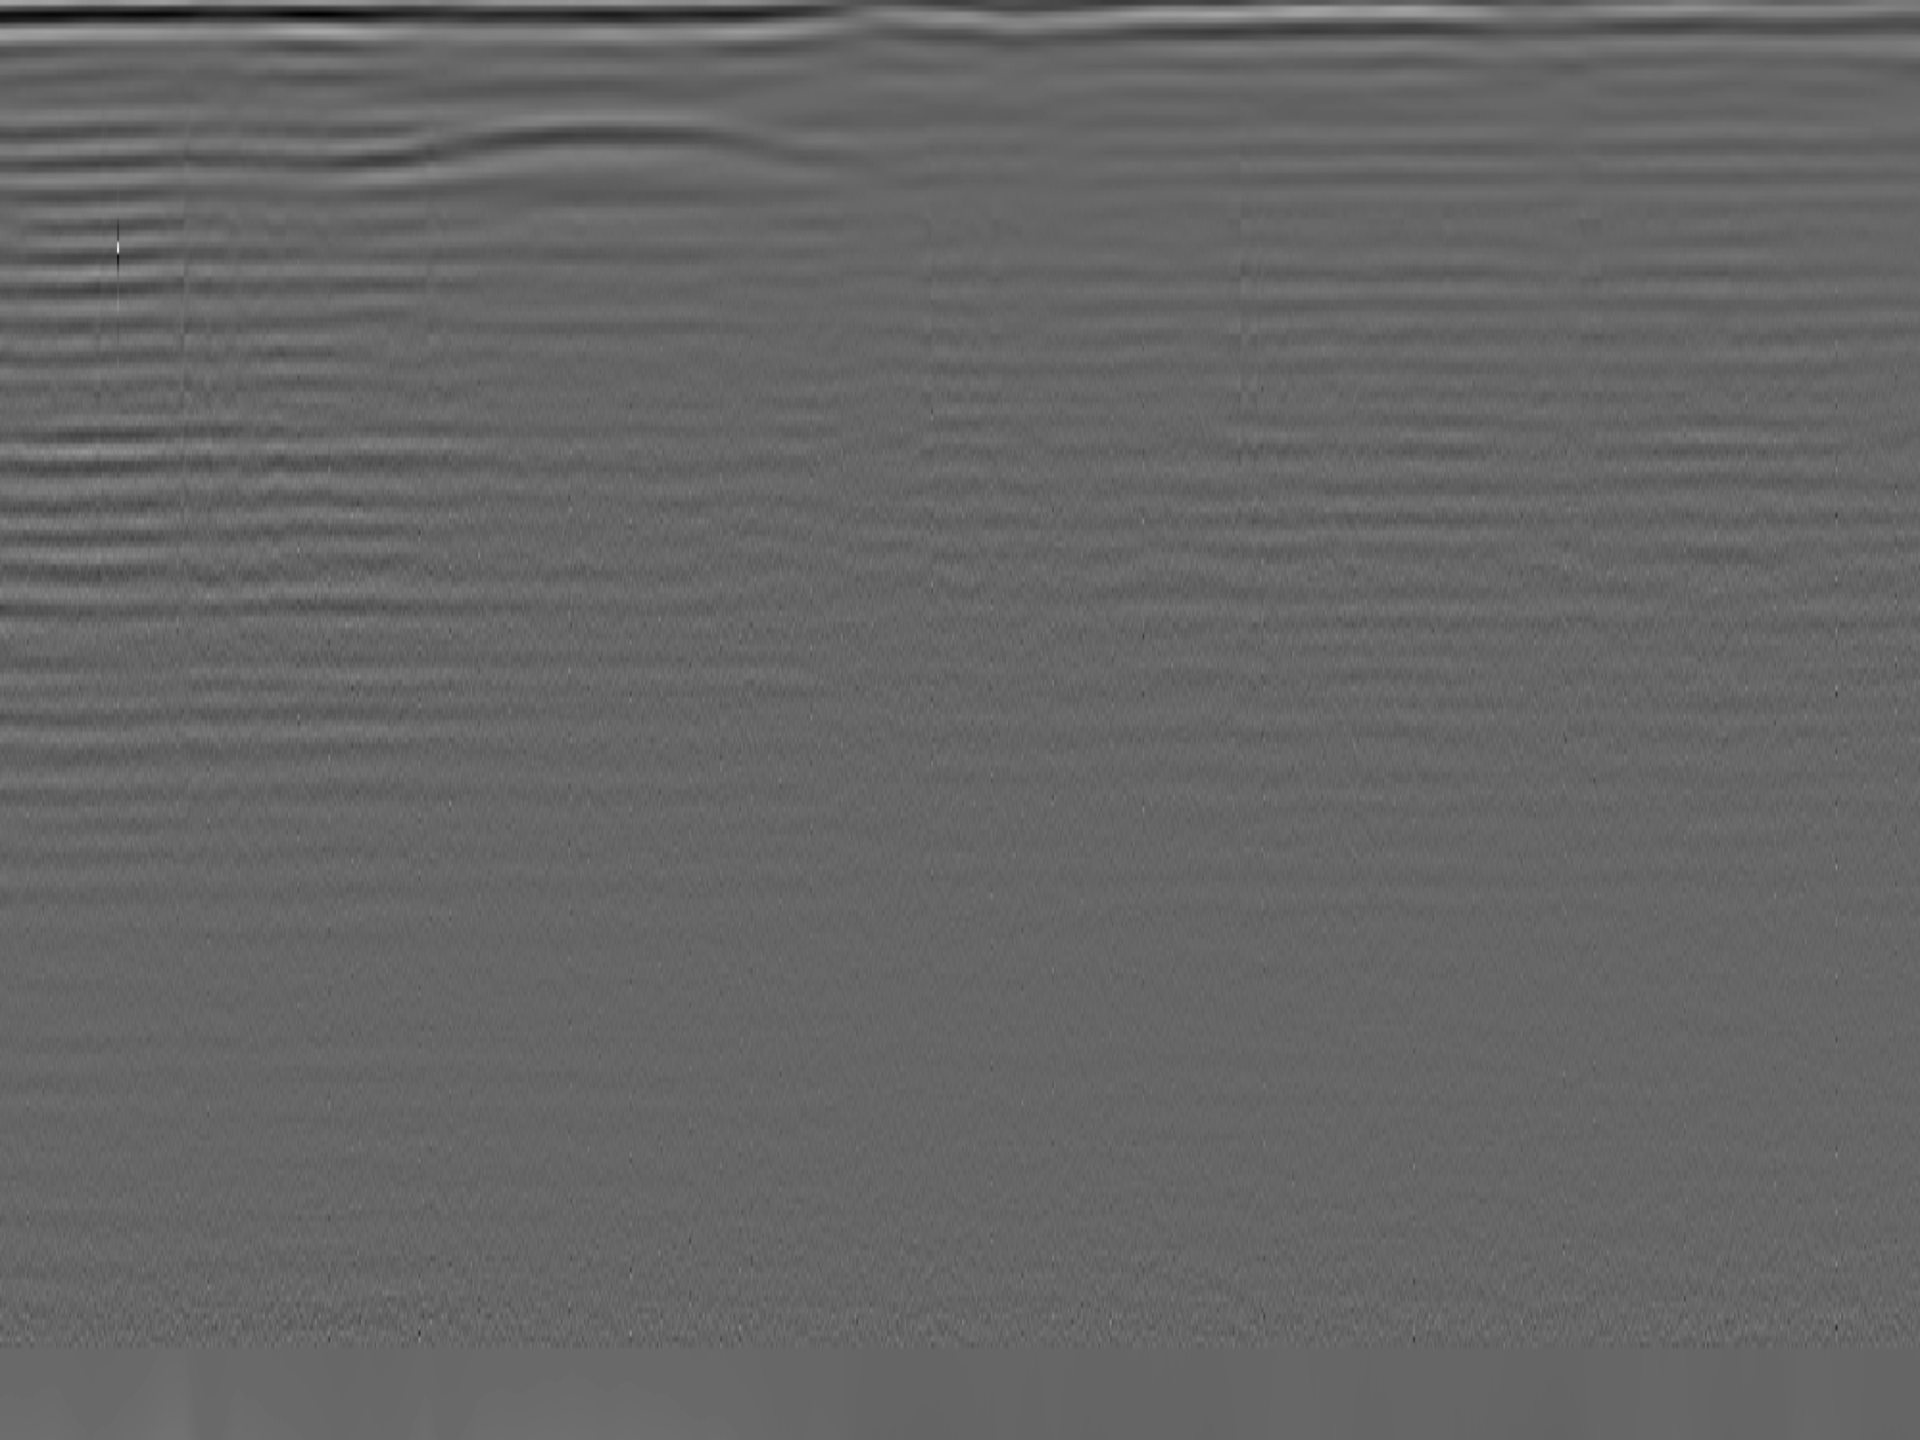Tunnel: (378, 115, 897, 172)
